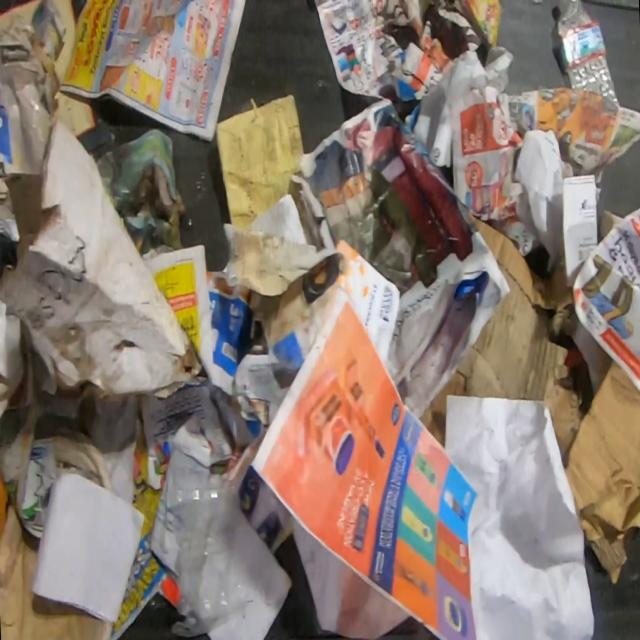cardboard: (0, 116, 204, 404), (418, 207, 584, 461), (564, 358, 640, 586), (0, 503, 115, 640), (0, 0, 68, 176)
rigid_plastic: (556, 0, 620, 108)
soft_plastic: (168, 462, 247, 639)
